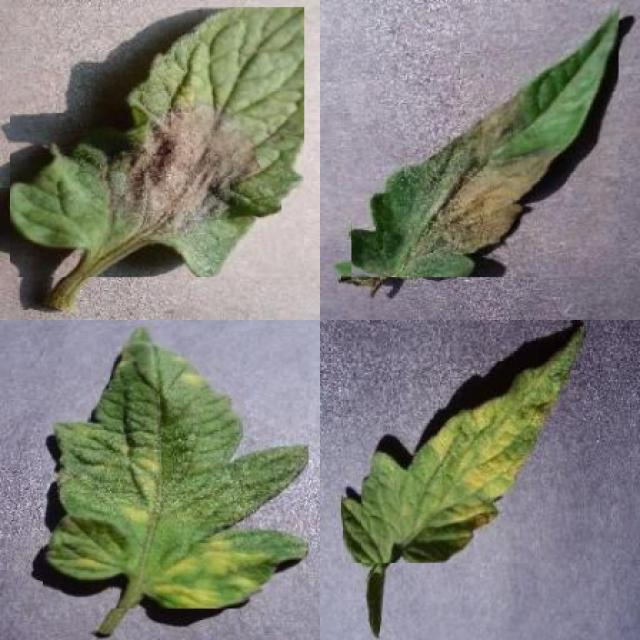Late Blight: (10, 7, 304, 277), (352, 3, 618, 278)
Leaf Mold: (43, 326, 308, 608), (343, 323, 586, 563)
